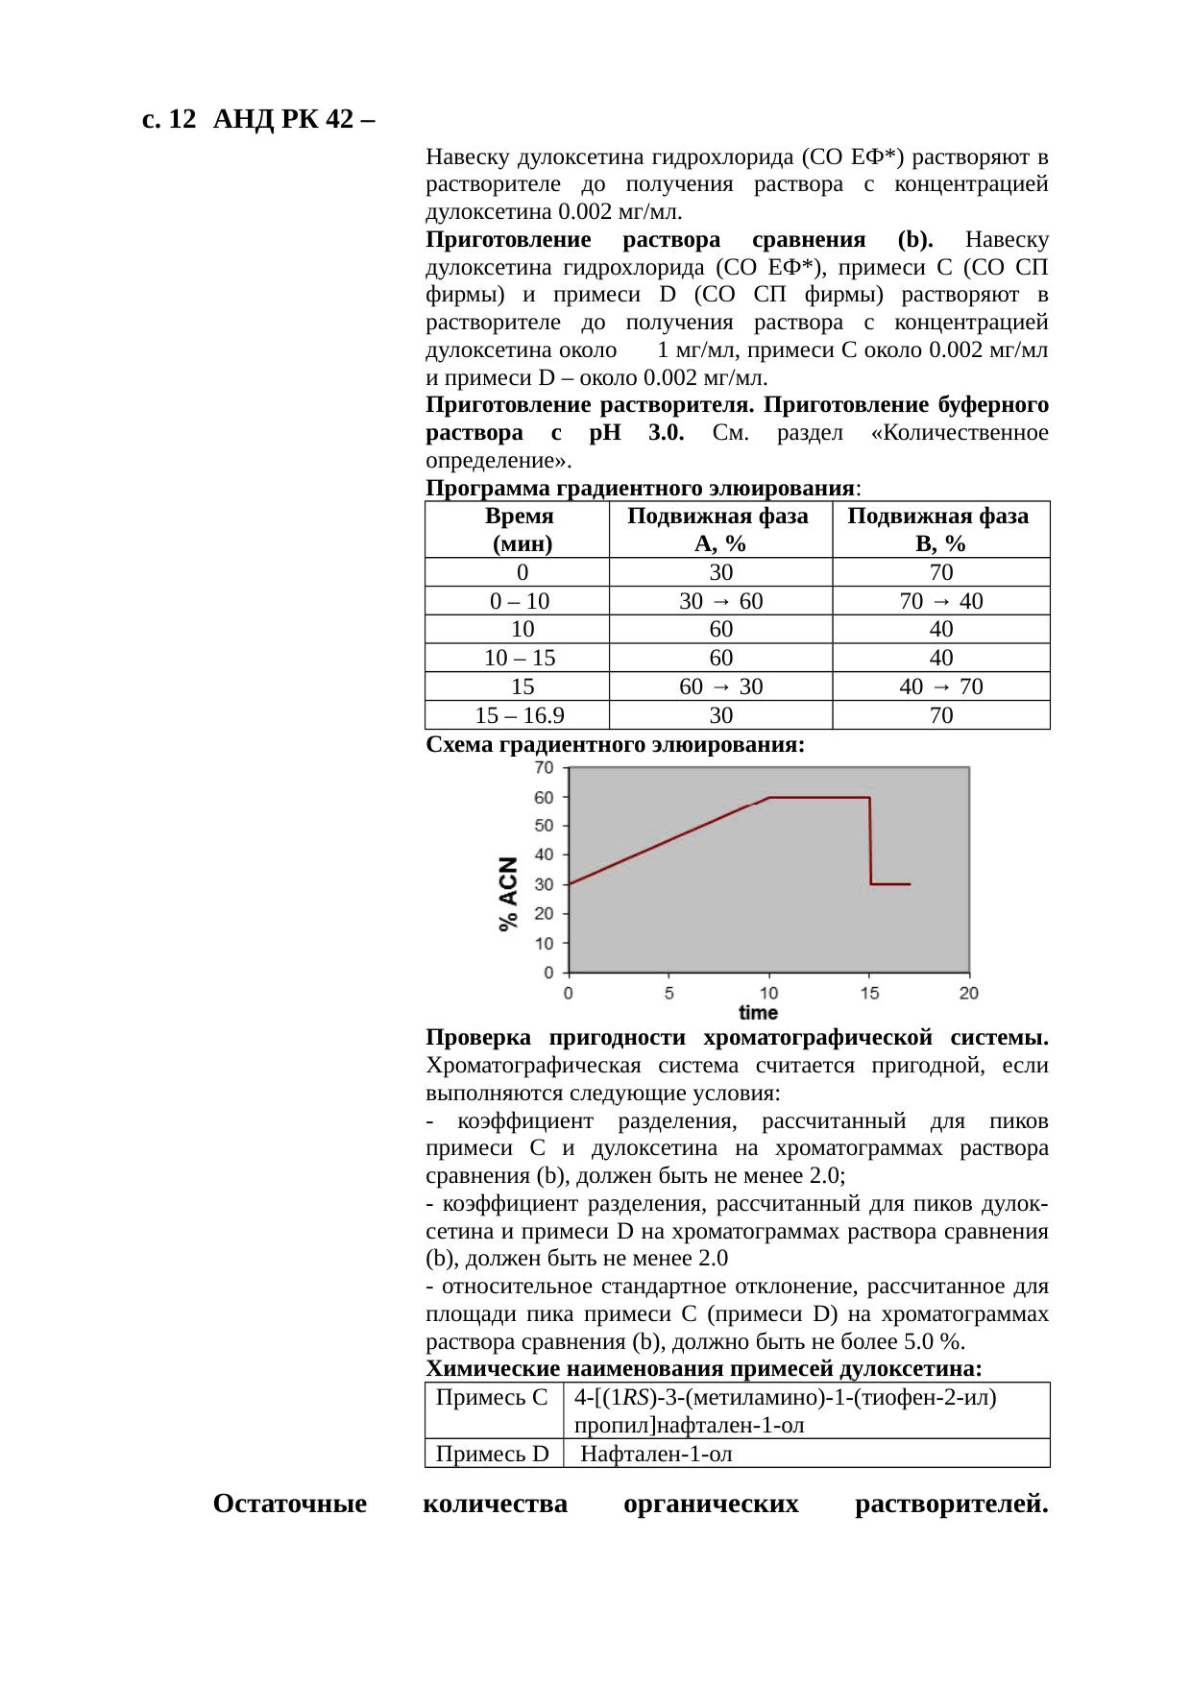full_lined: (410, 490, 1061, 739), (412, 1374, 1062, 1476)
